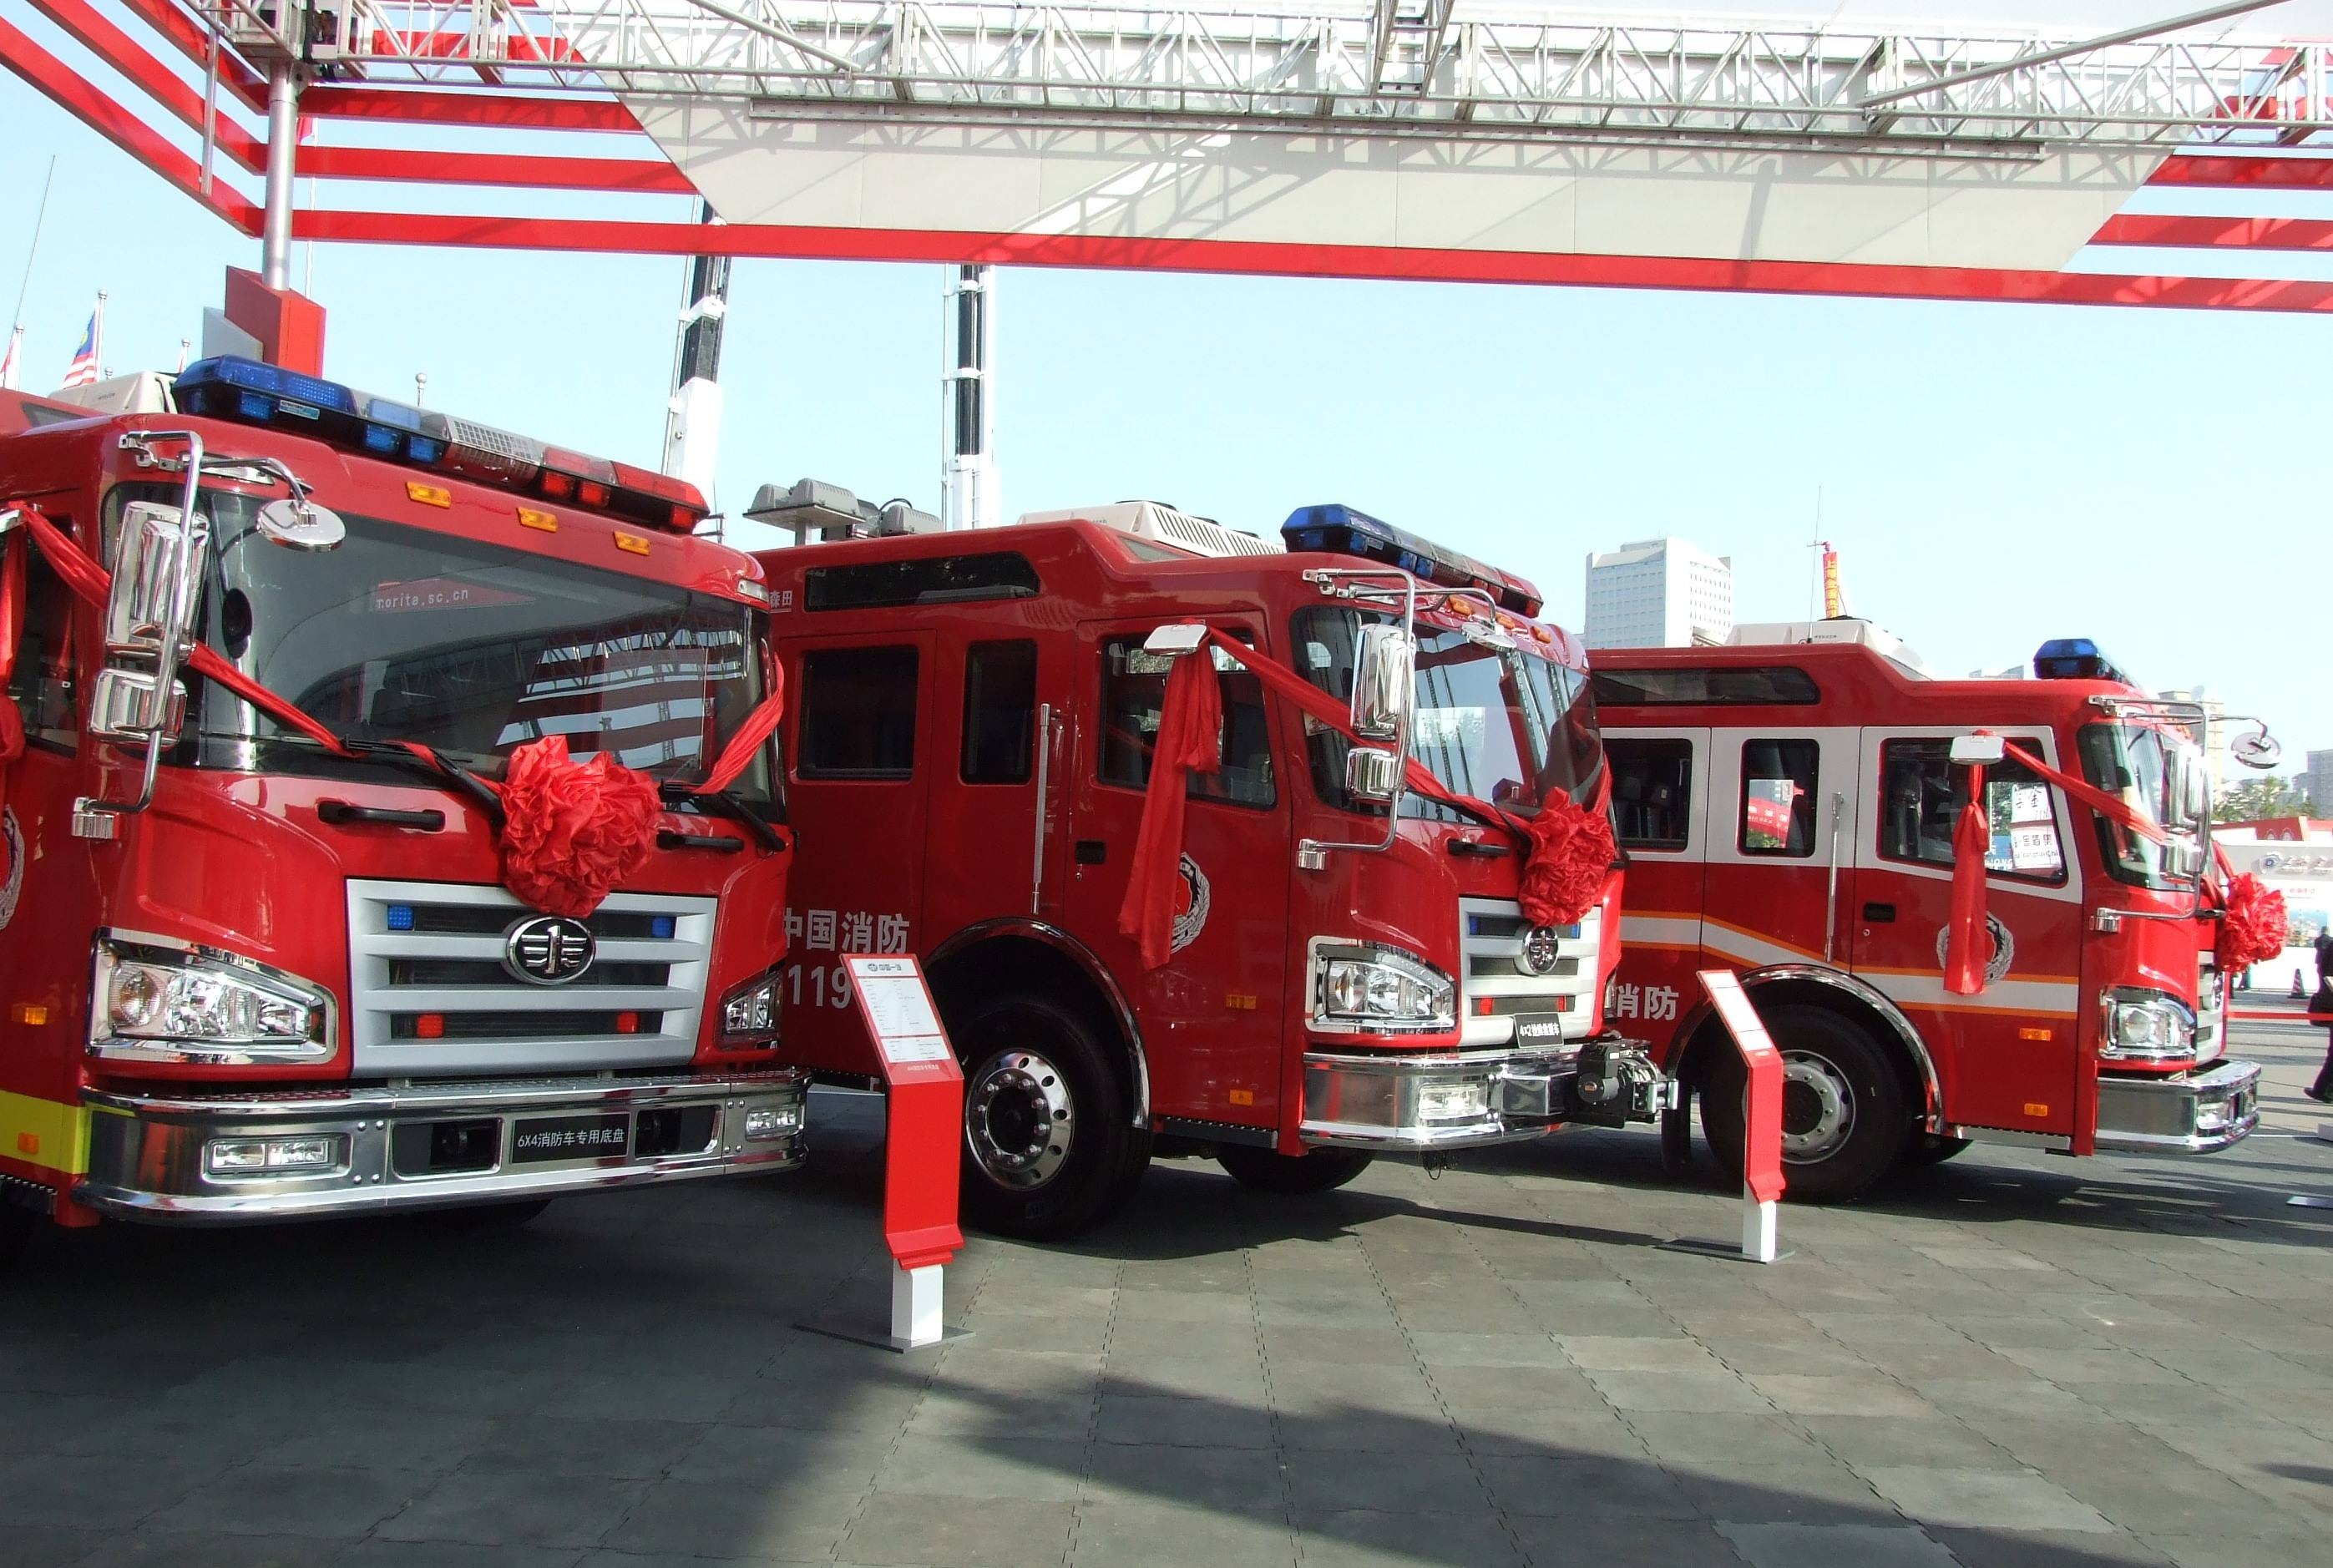fire engine: (7, 345, 826, 1295), (779, 485, 1671, 1221), (1531, 612, 2233, 1209)
